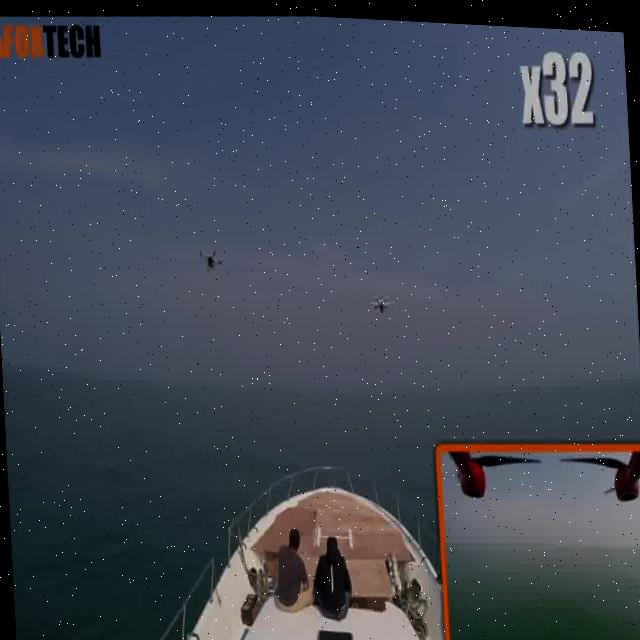drone: (366, 275, 400, 320), (196, 240, 229, 279)
